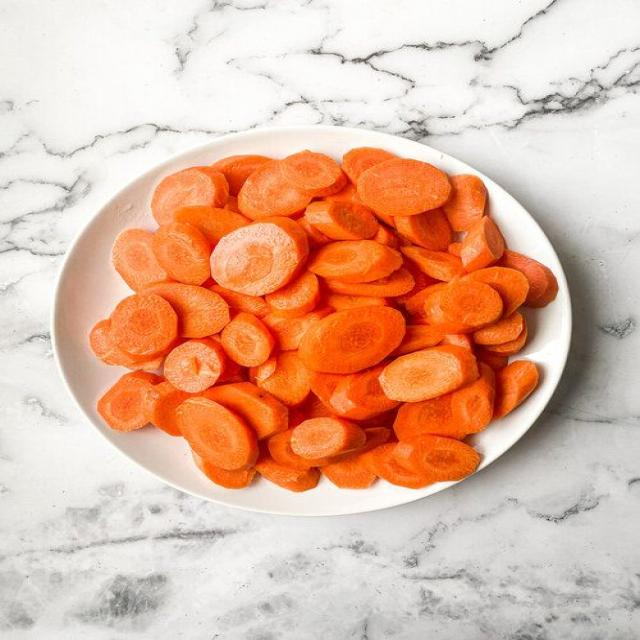carrot: (393, 364, 494, 440), (212, 217, 308, 295), (299, 307, 404, 373), (176, 398, 258, 470), (379, 346, 478, 402), (358, 159, 450, 215), (204, 382, 287, 439), (152, 166, 229, 224), (146, 284, 230, 337), (111, 292, 177, 358), (239, 161, 312, 220), (322, 428, 390, 489), (308, 240, 401, 283), (425, 281, 503, 332), (393, 435, 479, 481), (329, 364, 399, 420), (90, 320, 163, 371), (98, 372, 161, 431), (153, 222, 211, 284), (112, 229, 168, 291), (164, 338, 226, 393), (393, 394, 467, 440), (500, 250, 558, 307), (364, 444, 435, 488), (451, 363, 495, 433), (173, 206, 250, 246), (291, 418, 366, 459), (465, 267, 529, 315), (281, 150, 345, 196), (256, 352, 311, 405), (263, 309, 332, 351), (222, 312, 275, 366), (305, 201, 378, 239), (143, 381, 190, 436), (326, 268, 414, 297), (265, 271, 319, 317), (443, 175, 486, 232), (495, 361, 538, 417), (460, 217, 504, 271), (255, 455, 319, 492), (212, 155, 271, 195), (192, 452, 255, 489), (396, 209, 451, 251), (401, 246, 464, 281), (342, 147, 396, 184), (393, 261, 439, 304), (209, 285, 270, 317), (268, 429, 313, 470), (322, 457, 376, 489), (473, 312, 524, 345), (392, 325, 442, 355), (290, 393, 335, 426), (310, 373, 346, 414), (484, 321, 527, 355), (405, 283, 446, 315), (297, 217, 332, 248), (324, 294, 387, 310), (358, 408, 396, 431), (317, 170, 349, 197), (323, 182, 362, 203), (217, 358, 248, 384), (475, 348, 508, 371), (364, 427, 391, 450), (373, 225, 399, 248), (440, 334, 473, 351), (290, 401, 308, 427), (260, 356, 276, 379), (374, 212, 395, 228), (224, 195, 241, 213), (447, 242, 462, 257), (408, 314, 428, 325)
